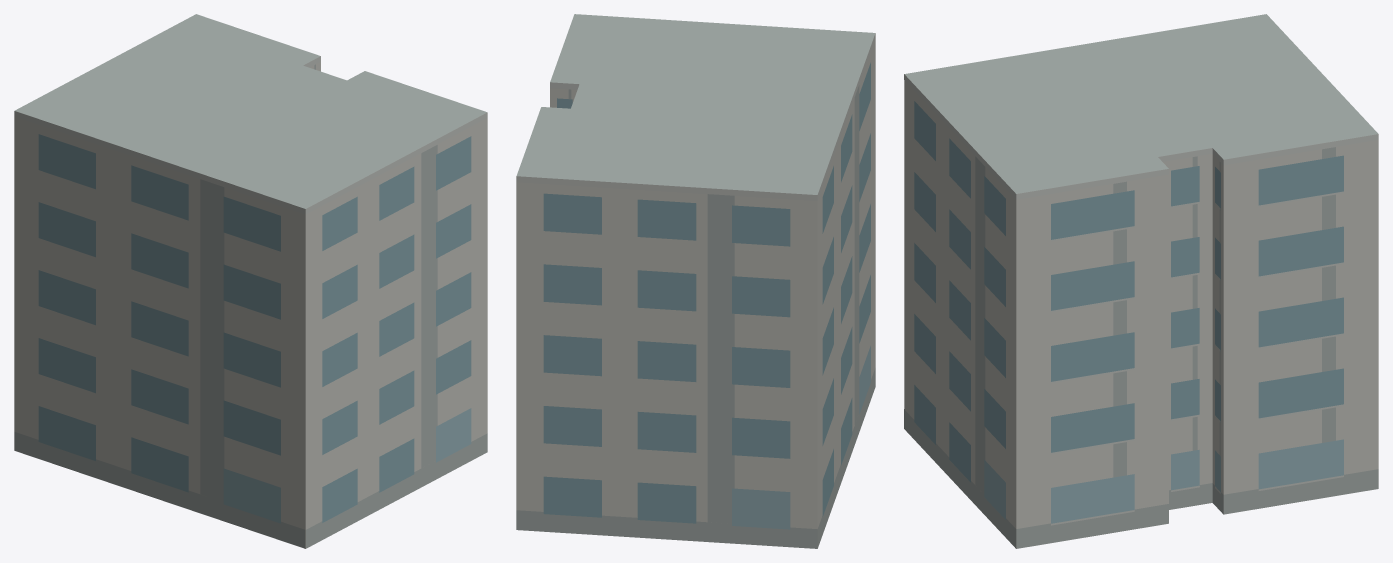
The model's file is survey-upis-32888482.glb.
3 views of the same model, side by side, from view 1: azimuth 30°, elevation 25°; view 2: azimuth 150°, elevation 25°; view 3: azimuth 270°, elevation 25° (orthographic). The views are drawn at different scales.
Visible parts, largest first — view 1: survey-upis-32888482.tmp; view 2: survey-upis-32888482.tmp; view 3: survey-upis-32888482.tmp.
Boxes of the visible parts, x1,y1,x2,y2 form: survey-upis-32888482.tmp: (14, 14, 487, 548); survey-upis-32888482.tmp: (516, 14, 875, 548); survey-upis-32888482.tmp: (904, 14, 1378, 548).
Size of the model in its own units: 15.95 by 14.65 by 17.76.
